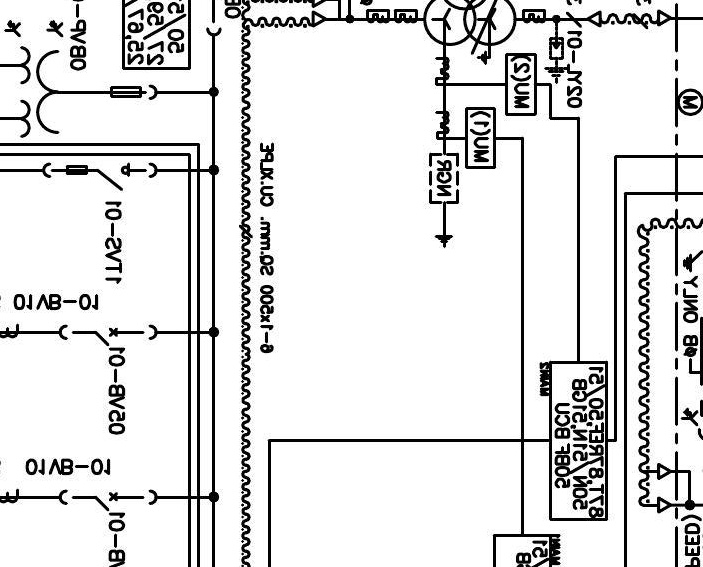22_breaker: (58, 489, 158, 512), (59, 324, 159, 347)
22_ds: (41, 162, 158, 192)
MU: (504, 53, 538, 116), (465, 106, 497, 170)
NGR_future: (428, 152, 460, 249)
terminator_double: (657, 462, 692, 514)
terminator_single: (586, 10, 603, 28), (657, 8, 673, 27)
